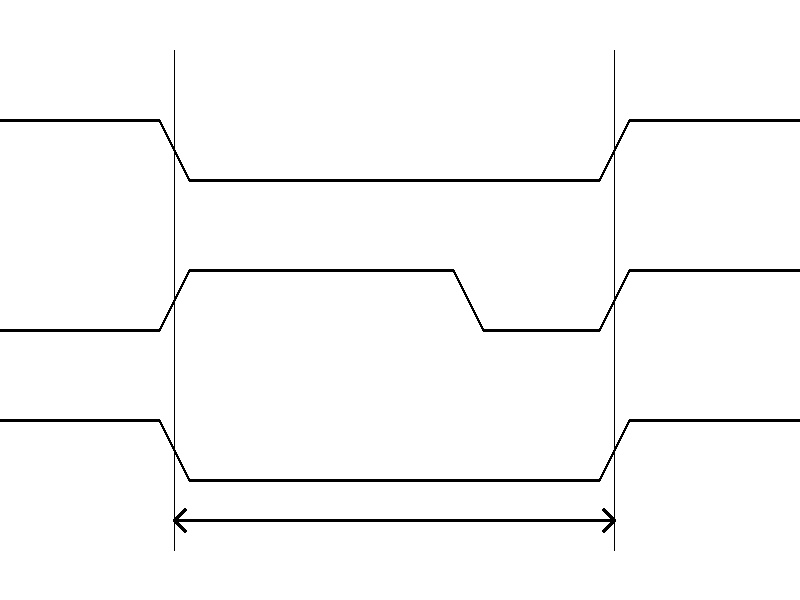double_arrow: (174, 505, 614, 535)
